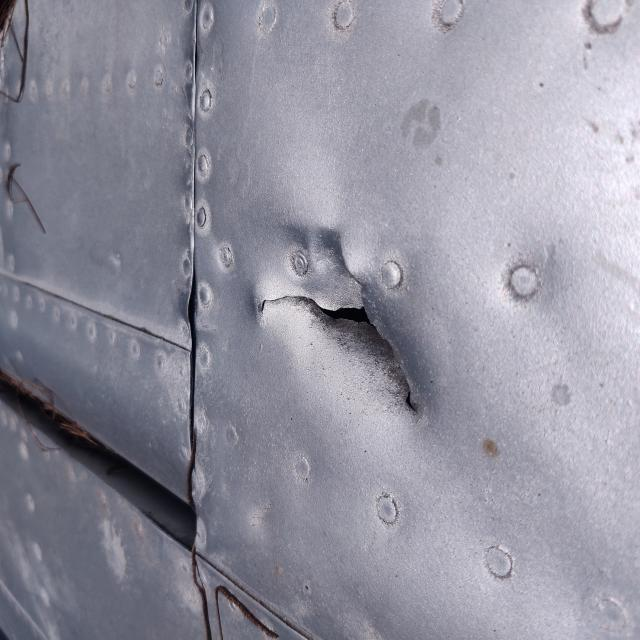crack: (171, 224, 429, 448)
